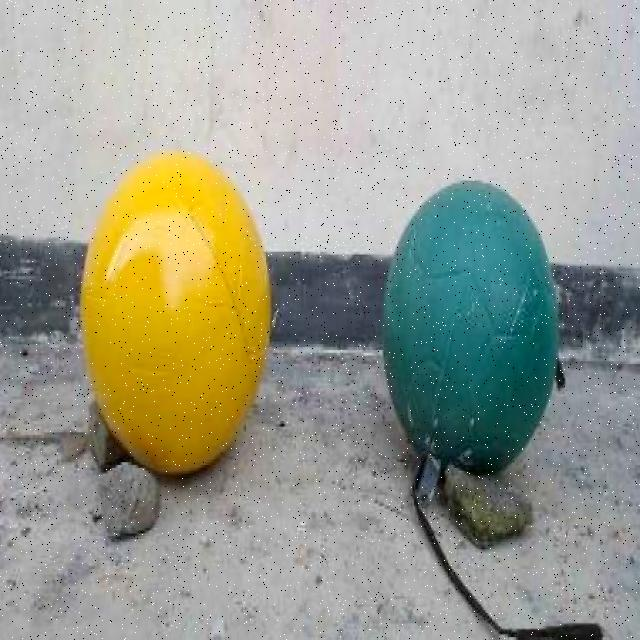buoy: (80, 150, 267, 473), (380, 179, 559, 472)
